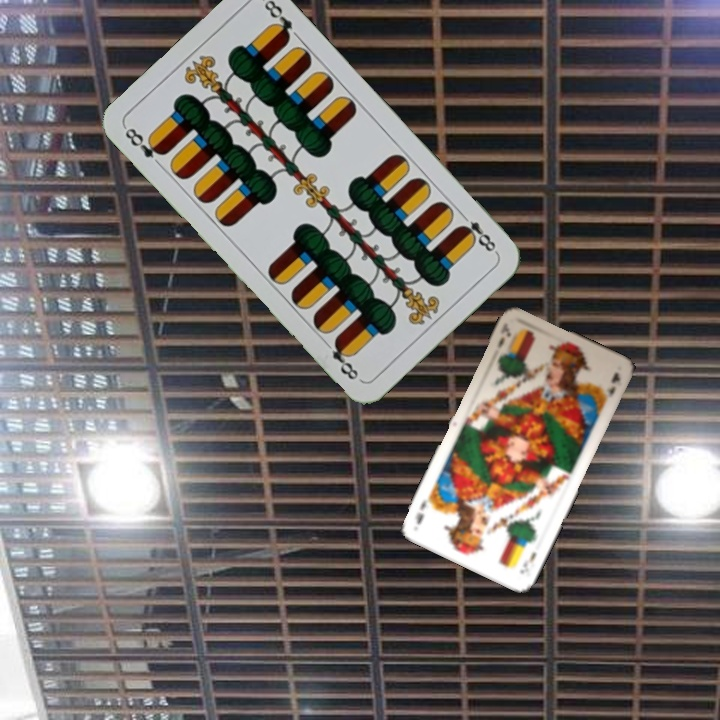E8: (455, 208, 500, 256), (120, 123, 169, 161)
EK: (515, 547, 539, 577), (494, 320, 514, 351)
